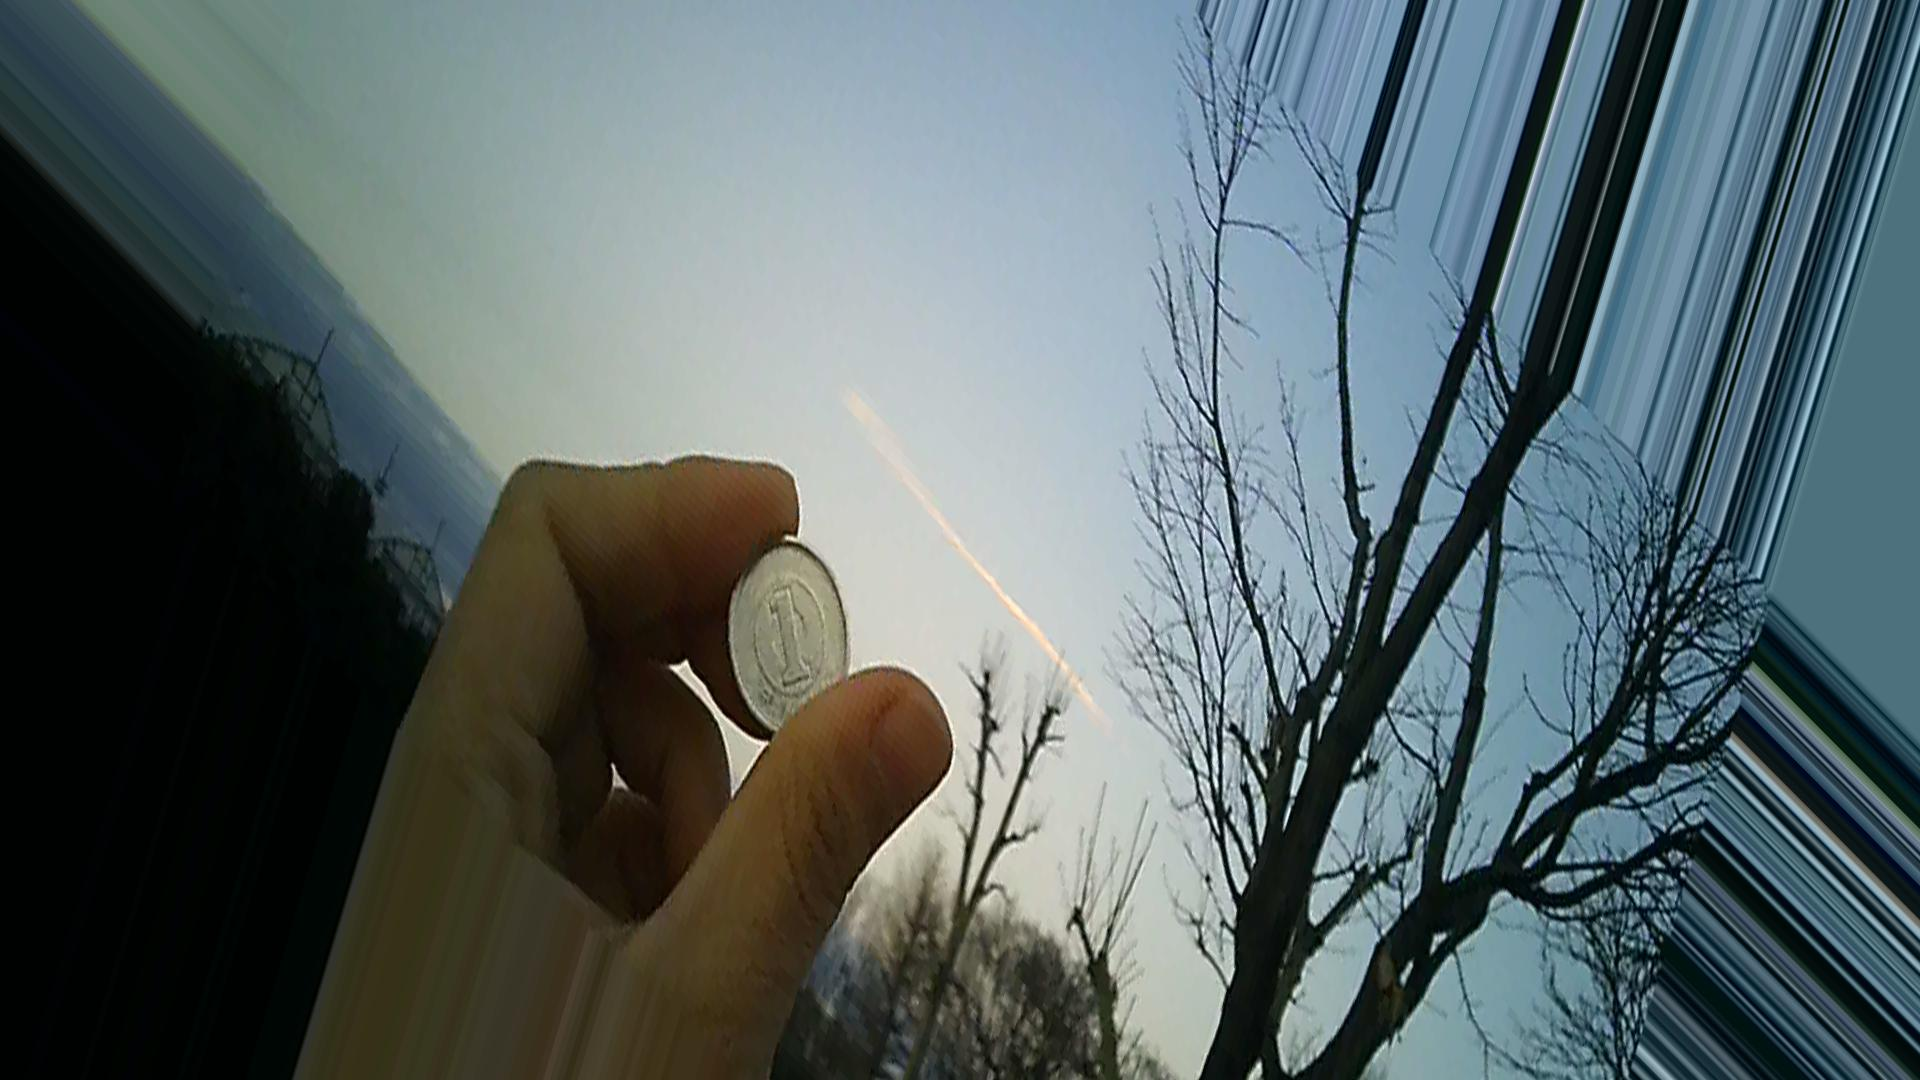1 Yen: (720, 527, 851, 709)
